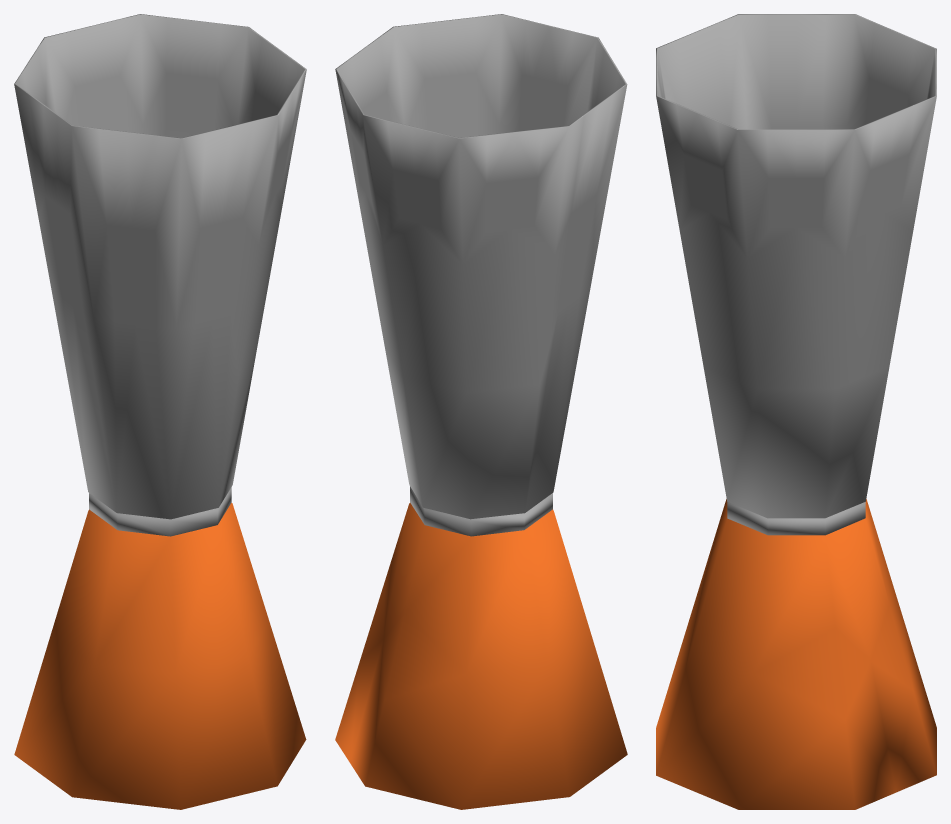
The model's file is UEFA-Europa-League-D1.glb.
The picture shows the model from 3 angles, left to right: view 1: azimuth 30°, elevation 25°; view 2: azimuth 150°, elevation 25°; view 3: azimuth 270°, elevation 25°; orthographic projection.
Parts seen in each view (by area): view 1: top, bottom, middle; view 2: top, bottom, middle; view 3: top, bottom, middle.
Boxes of the visible parts, bbox=[...] form: top: bbox=[14, 14, 306, 519]; bottom: bbox=[14, 503, 306, 809]; middle: bbox=[89, 487, 231, 536]; top: bbox=[335, 14, 627, 519]; bottom: bbox=[335, 503, 627, 809]; middle: bbox=[410, 486, 552, 536]; top: bbox=[656, 14, 936, 518]; bottom: bbox=[656, 499, 936, 809]; middle: bbox=[727, 502, 865, 535].
Bounding box in the file's own units: 0.0671 × 0.1831 × 0.0686.
